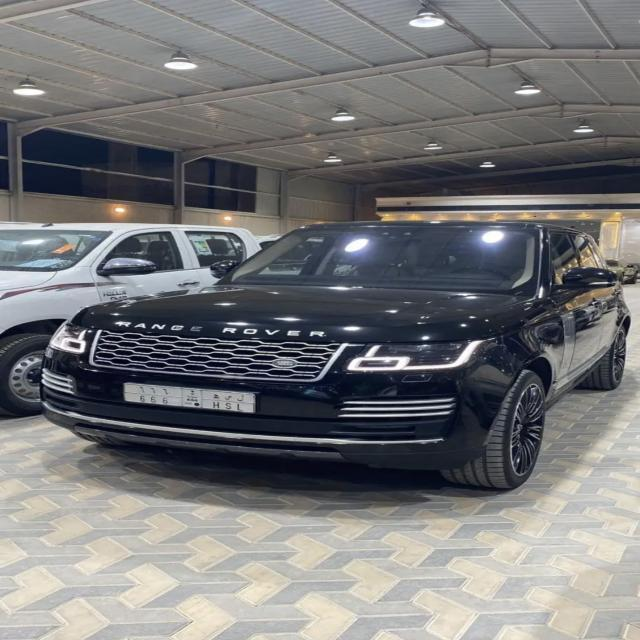license_plate: (123, 380, 254, 416)
